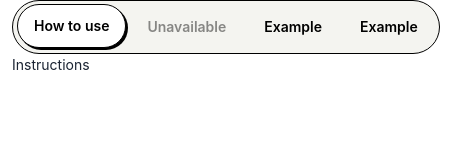
Test case: tab identity and compatibility › distinguishes duplicate labels and shows the selected value panel
Click the 2nd tab "Example": (389, 27) x1=343 y1=5 x2=435 y2=49
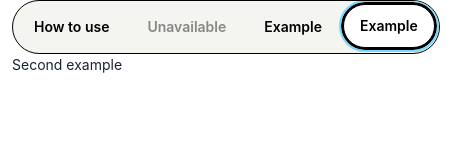
Result: the panel reads "Second example" at x1=12 y1=56 x2=122 y2=73
